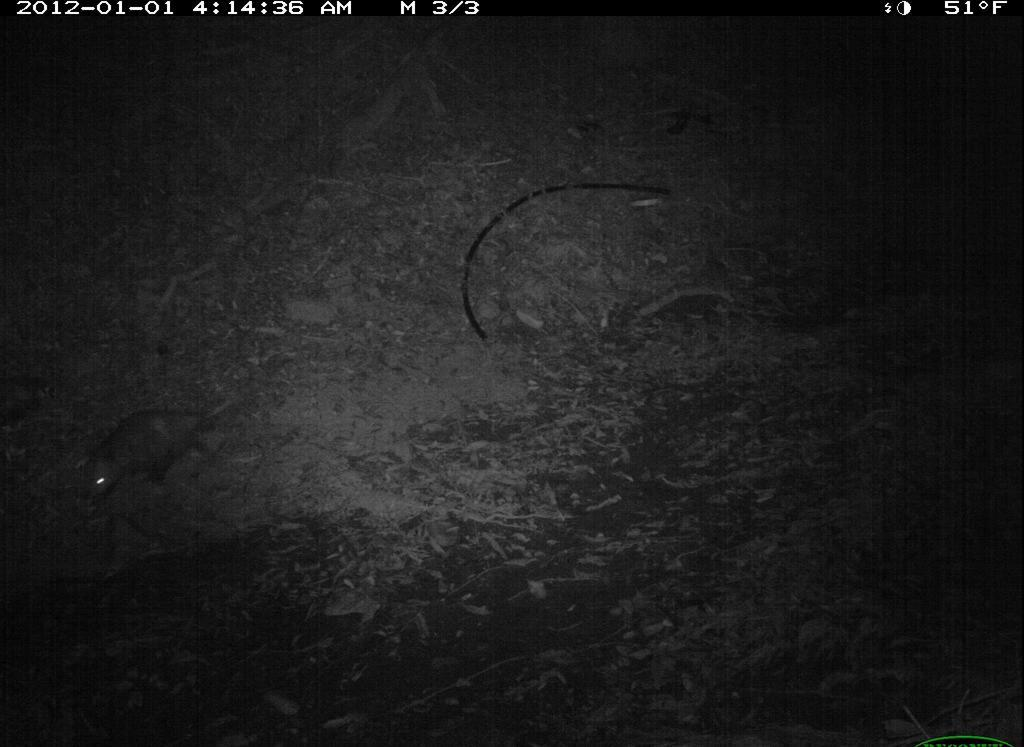opossum: (50, 365, 263, 528)
